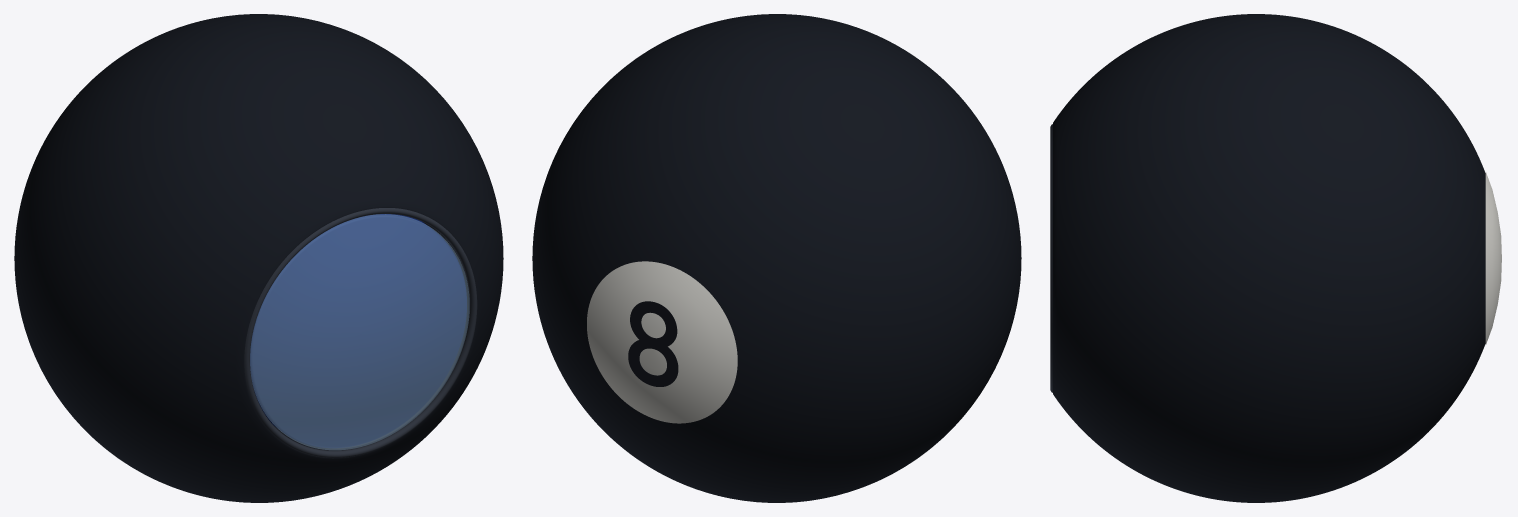
The model's file is ball.glb.
3 renders of one model, left to right at view 1: azimuth 30°, elevation 25°; view 2: azimuth 150°, elevation 25°; view 3: azimuth 270°, elevation 25°, orthographic.
Parts seen in each view (by area): view 1: BallShell, GlassWindow, FluidChamber, ApertureRim; view 2: BallShell, EightBadge, EightMark; view 3: BallShell, EightBadge, ApertureRim.
Boxes of the visible parts, x1,y1,x2,y2 form: BallShell: (14,14,503,502); GlassWindow: (250,214,469,450); FluidChamber: (250,214,466,448); ApertureRim: (244,208,477,458); BallShell: (532,14,1021,502); EightBadge: (587,261,737,423); EightMark: (628,301,678,386); BallShell: (1052,14,1485,502); EightBadge: (1485,172,1501,344); ApertureRim: (1050,124,1052,392).
Size of the model in its own units: 3.2 by 3.2 by 2.97.
